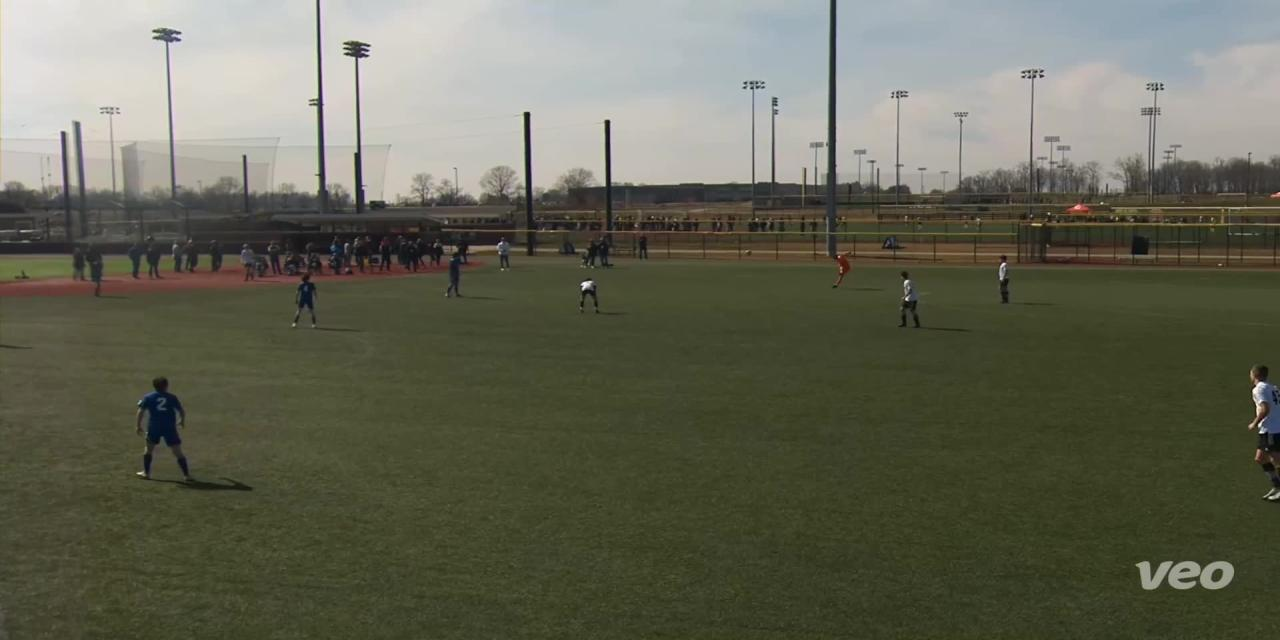sports ball: (740, 244, 758, 259)
